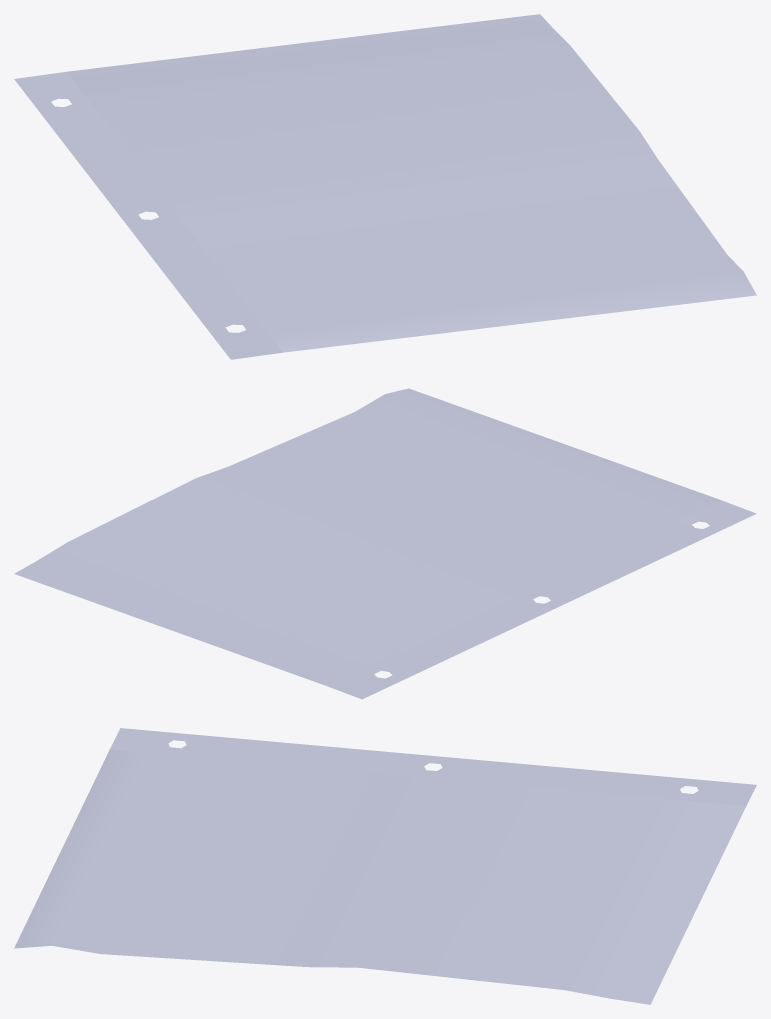
File: Hoja_3.fbx
3 renders of one model, top to bottom at view 1: azimuth 30°, elevation 25°; view 2: azimuth 150°, elevation 25°; view 3: azimuth 270°, elevation 25°, orthographic. The views are drawn at different scales.
Visible parts, largest first — view 1: Hoja_3; view 2: Hoja_3; view 3: Hoja_3.
Boxes of the visible parts, x1=… form: Hoja_3: x1=14, y1=14, x2=756, y2=359; Hoja_3: x1=14, y1=388, x2=756, y2=699; Hoja_3: x1=14, y1=728, x2=756, y2=1004.
Bounding box in the file's own units: 0.2355 × 0.00471 × 0.2741.
